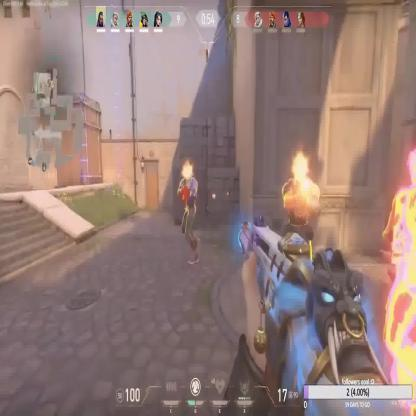enemy: (383, 146, 415, 416), (281, 150, 320, 316), (178, 160, 200, 265)
enemy_head: (292, 154, 308, 180), (407, 149, 415, 187), (182, 160, 193, 180)
